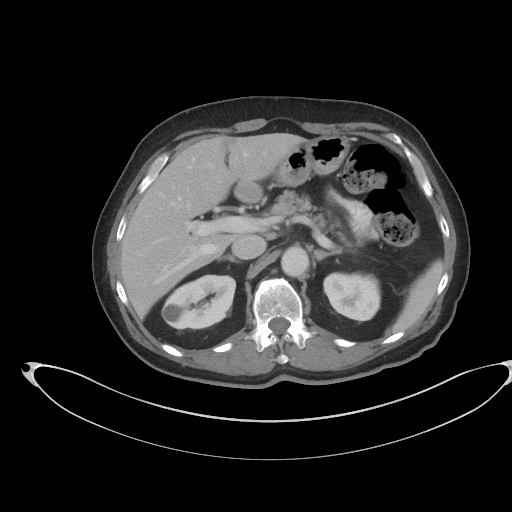Lesion: (163, 301, 187, 325)
